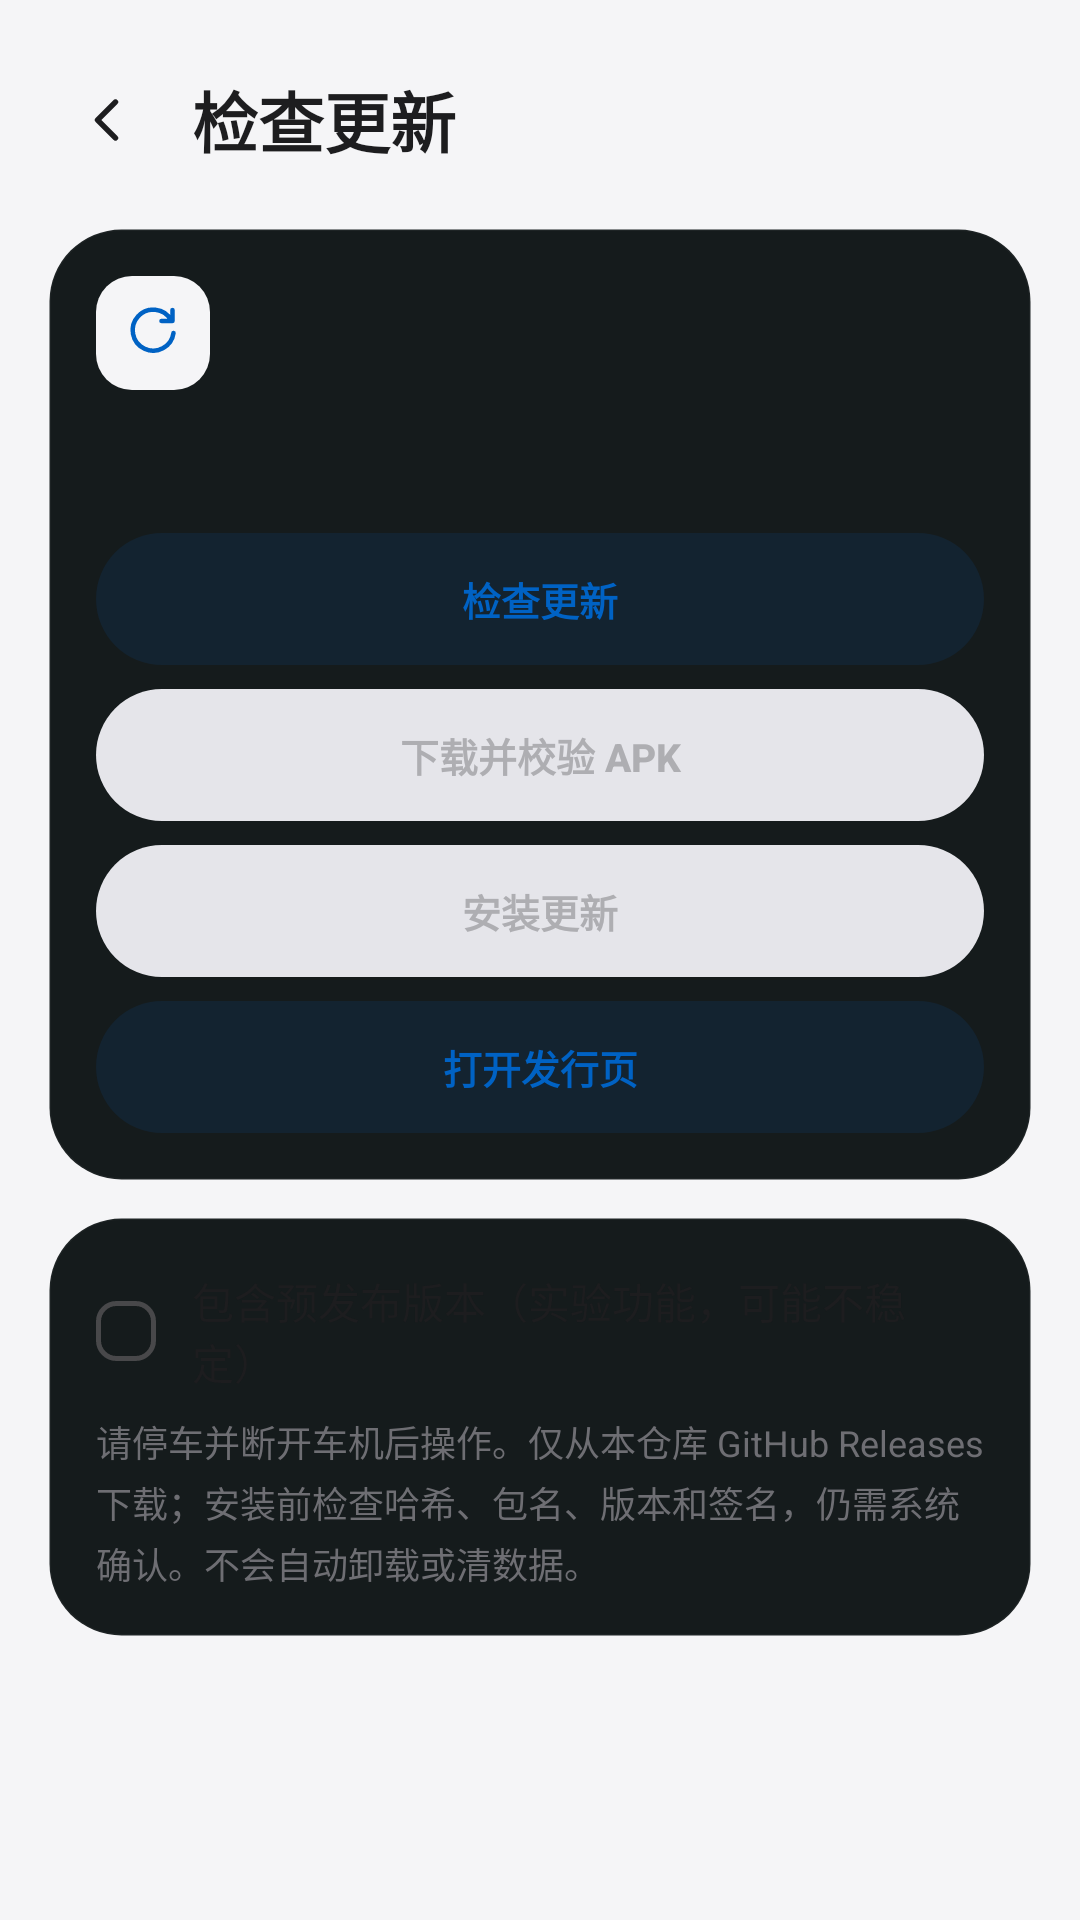

Icon click points for this 1080px×1920px phone screenshot, format (x=x, y=y):
refresh: (x=153, y=330)
返回连接页面: (x=106, y=120)
